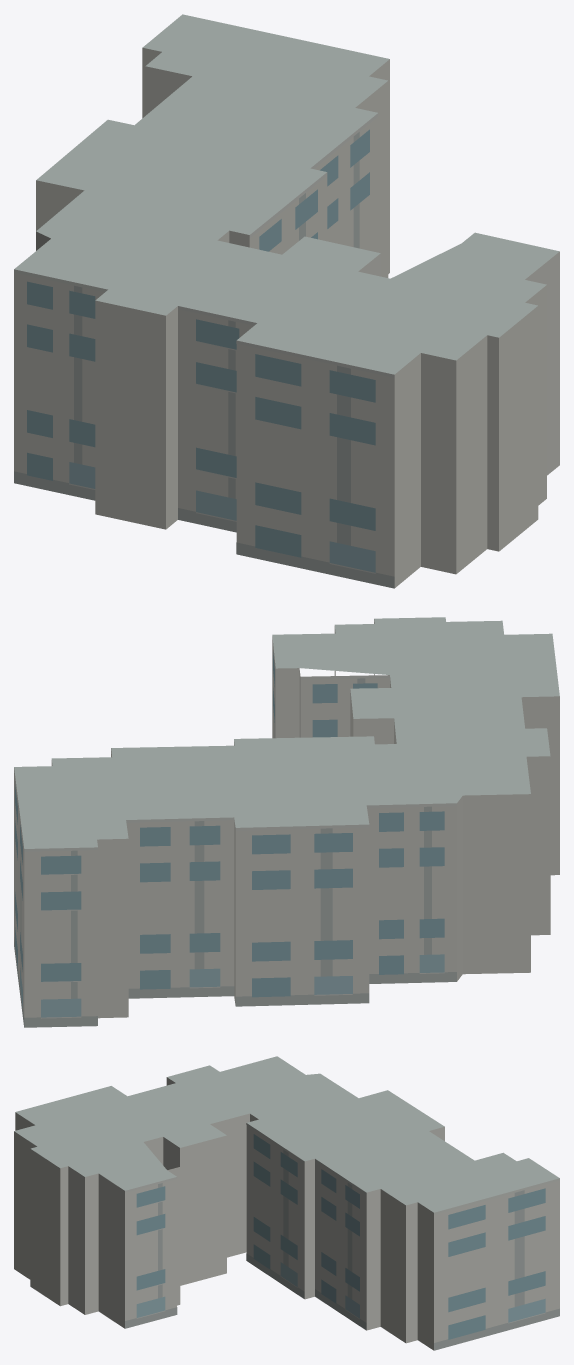
The model's file is residential-b1738f13-f79a-4fbe-a0a7-9ccfbbc2f6d1.glb.
3 views of the same model, one above another, from view 1: azimuth 30°, elevation 25°; view 2: azimuth 150°, elevation 25°; view 3: azimuth 270°, elevation 25° (orthographic). The views are drawn at different scales.
Visible parts, largest first — view 1: residential-b1738f13-f79a-4fbe-a0a7-9ccfbbc2f6d1.tmp; view 2: residential-b1738f13-f79a-4fbe-a0a7-9ccfbbc2f6d1.tmp; view 3: residential-b1738f13-f79a-4fbe-a0a7-9ccfbbc2f6d1.tmp.
Boxes of the visible parts, bbox=[...] form: residential-b1738f13-f79a-4fbe-a0a7-9ccfbbc2f6d1.tmp: bbox=[14, 14, 559, 588]; residential-b1738f13-f79a-4fbe-a0a7-9ccfbbc2f6d1.tmp: bbox=[14, 617, 559, 1027]; residential-b1738f13-f79a-4fbe-a0a7-9ccfbbc2f6d1.tmp: bbox=[14, 1056, 559, 1350].
Bounding box in the file's own units: 37.12 × 15.25 × 54.69.
